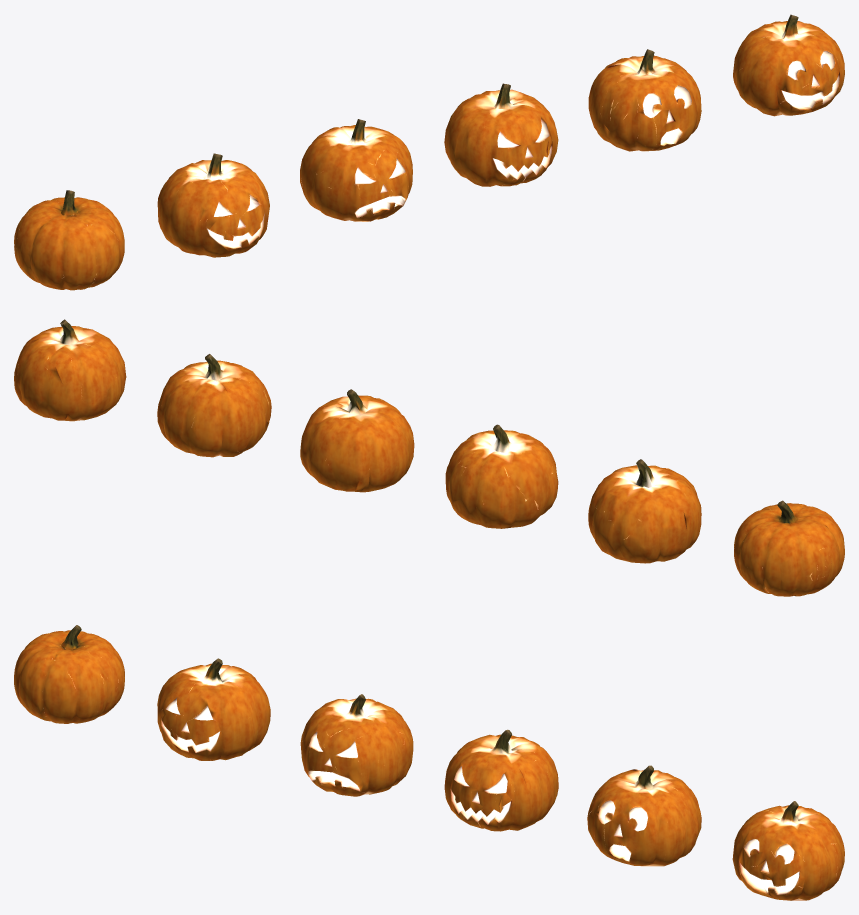
Rendered from pumpkins.glb.
3 views of the same model, one above another, from view 1: azimuth 30°, elevation 25°; view 2: azimuth 150°, elevation 25°; view 3: azimuth 330°, elevation 25° (orthographic).
Parts seen in each view (by area): view 1: jack_o_lantern_1, jack_o_lantern_2, jack_o_lantern_3, jack_o_lantern_4, jack_o_lantern_5, pumpkin_plain; view 2: jack_o_lantern_1, jack_o_lantern_2, jack_o_lantern_3, jack_o_lantern_4, jack_o_lantern_5, pumpkin_plain; view 3: jack_o_lantern_2, jack_o_lantern_1, jack_o_lantern_4, jack_o_lantern_3, jack_o_lantern_5, pumpkin_plain.
Part boxes in pixels (bbox=[...]): jack_o_lantern_1: bbox=[157, 153, 269, 257]; jack_o_lantern_2: bbox=[300, 119, 412, 221]; jack_o_lantern_3: bbox=[444, 83, 558, 186]; jack_o_lantern_4: bbox=[588, 49, 701, 151]; jack_o_lantern_5: bbox=[733, 14, 844, 116]; pumpkin_plain: bbox=[14, 190, 124, 290]; jack_o_lantern_1: bbox=[588, 459, 701, 563]; jack_o_lantern_2: bbox=[445, 424, 558, 528]; jack_o_lantern_3: bbox=[300, 389, 414, 492]; jack_o_lantern_4: bbox=[157, 354, 271, 457]; jack_o_lantern_5: bbox=[14, 319, 126, 421]; pumpkin_plain: bbox=[734, 500, 844, 596]; jack_o_lantern_2: bbox=[300, 694, 413, 796]; jack_o_lantern_1: bbox=[157, 658, 270, 760]; jack_o_lantern_4: bbox=[587, 765, 701, 866]; jack_o_lantern_3: bbox=[444, 729, 558, 831]; jack_o_lantern_5: bbox=[732, 801, 844, 900]; pumpkin_plain: bbox=[14, 625, 124, 723].
Size of the model in its own units: 3.4 by 0.3493 by 0.4119.
Materials: 1 (1 with a texture image).
